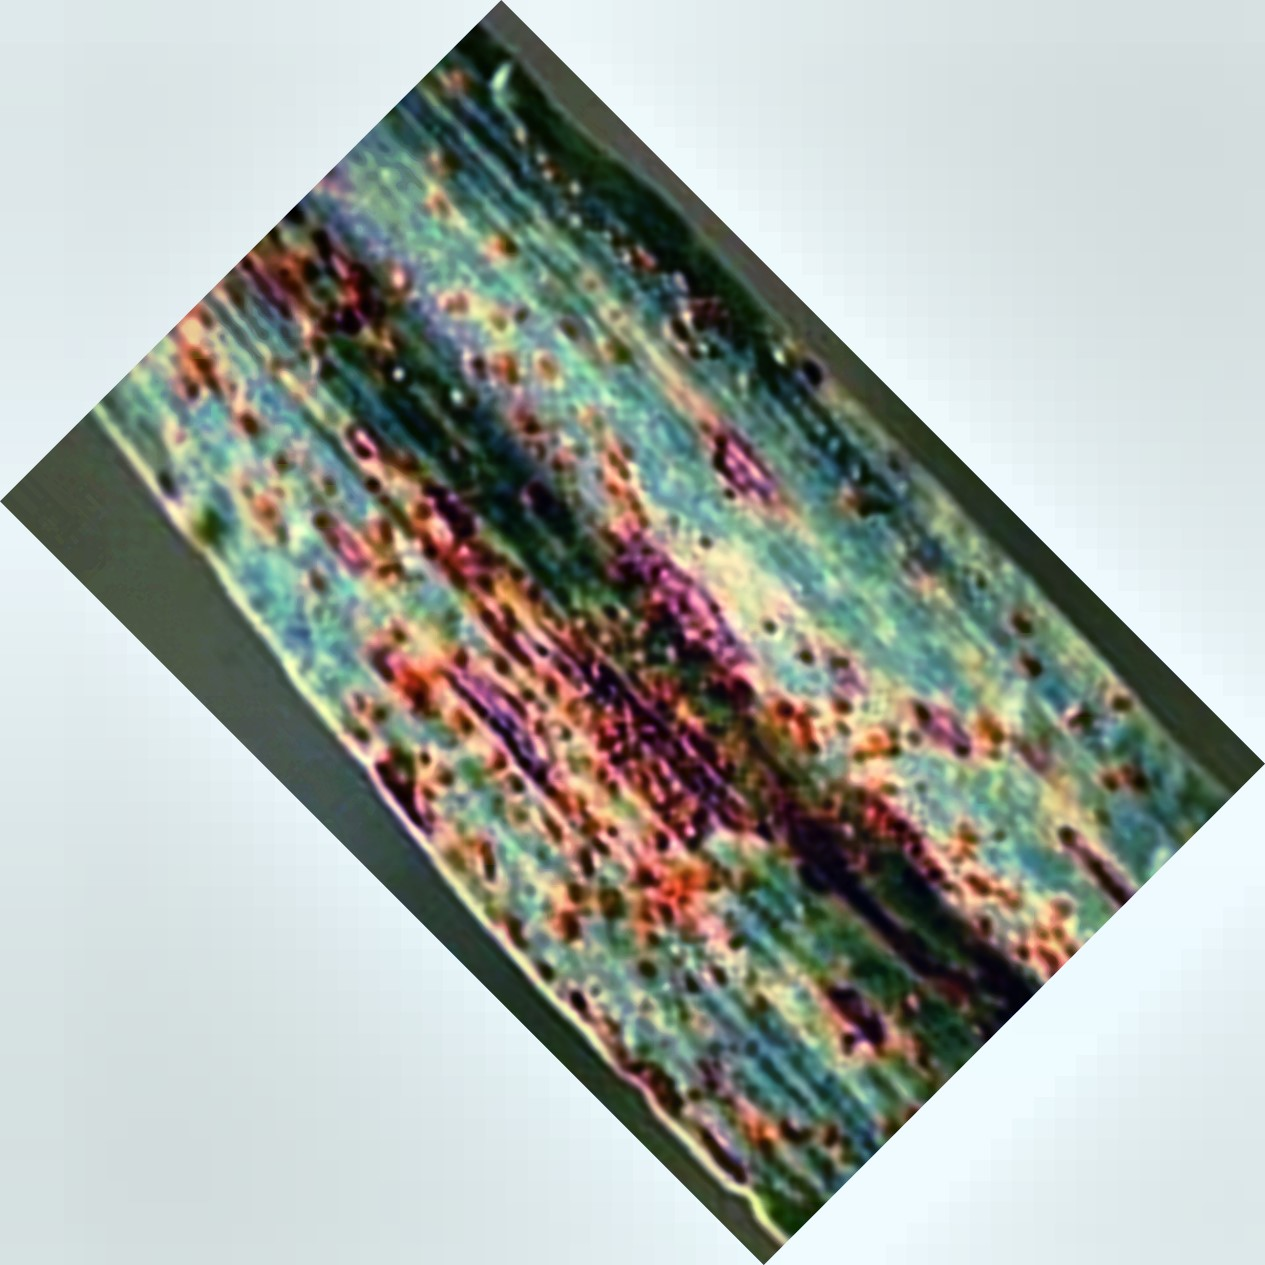Leaf Rust: (222, 284, 1052, 1034)
